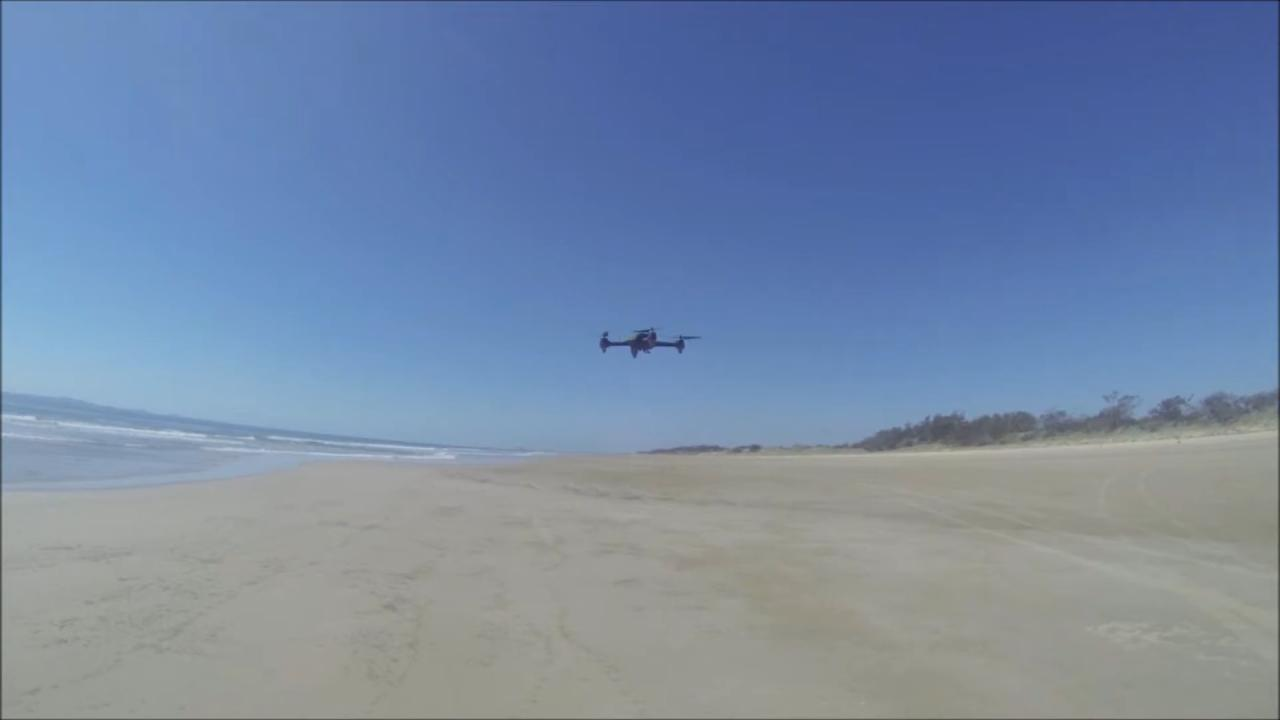Drone: (584, 310, 710, 375)
